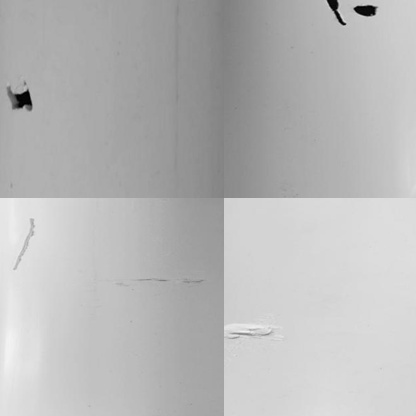kongdong: (5, 79, 39, 116), (325, 2, 346, 27), (350, 2, 379, 19)
sunshang: (12, 217, 40, 273), (225, 322, 280, 342)
